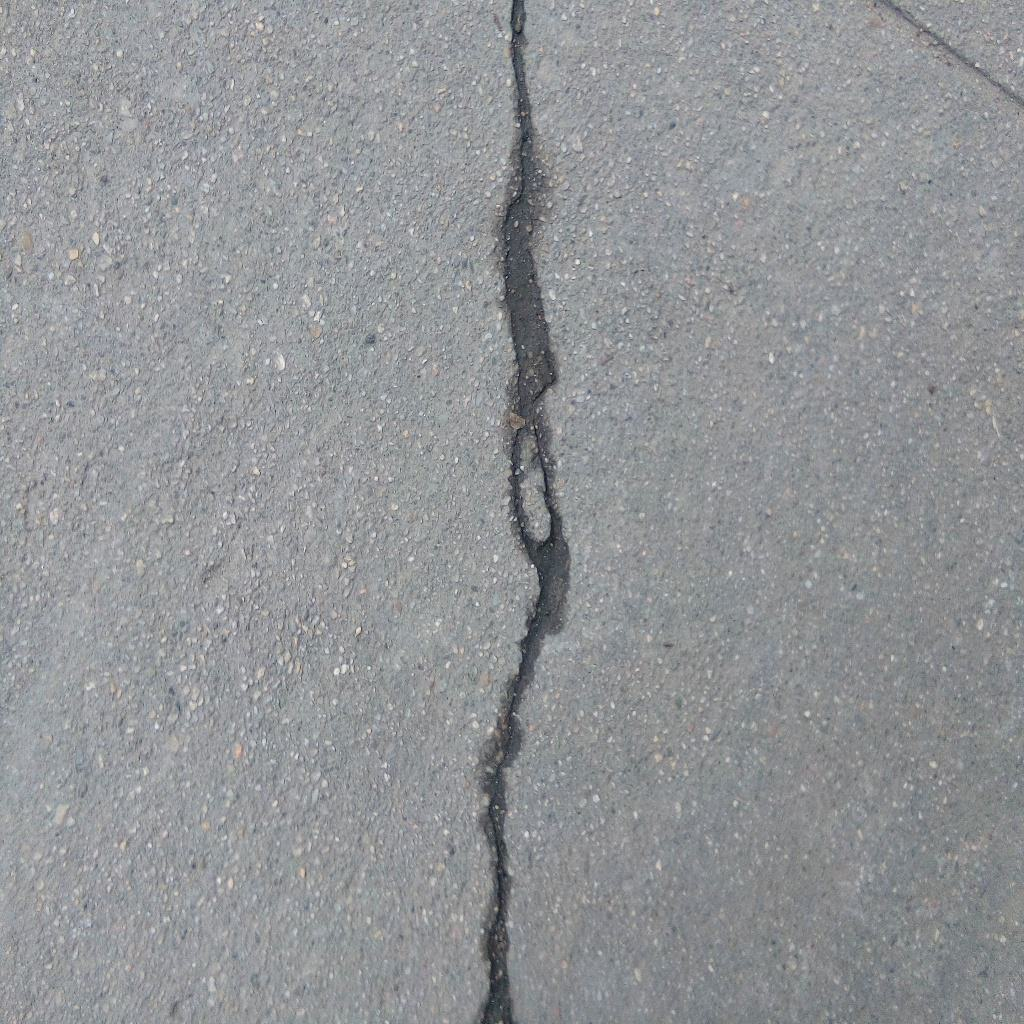Crack: (477, 1, 565, 1024)
